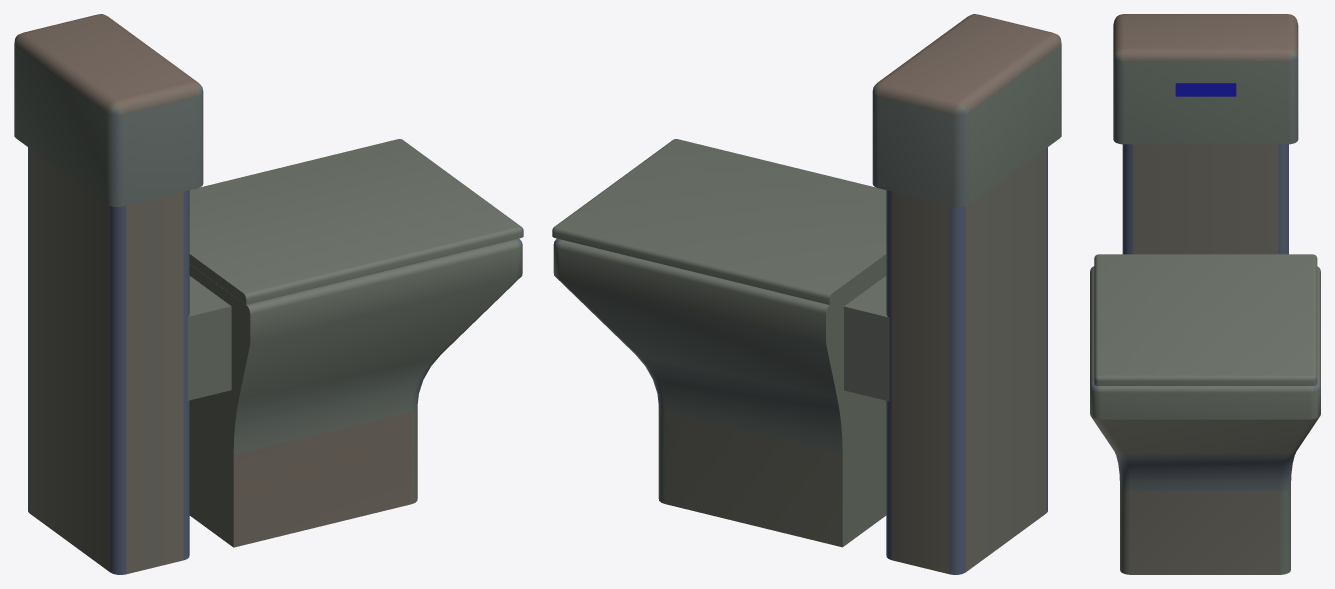
File: commode.FBX
3 renders of one model, left to right at view 1: azimuth 30°, elevation 25°; view 2: azimuth 150°, elevation 25°; view 3: azimuth 270°, elevation 25°, orthographic. The views are drawn at different scales.
Parts seen in each view (by area): view 1: commode; view 2: commode; view 3: commode.
Boxes of the visible parts, bbox=[...] form: commode: bbox=[14, 14, 523, 574]; commode: bbox=[552, 14, 1061, 574]; commode: bbox=[1090, 14, 1320, 574].
Size of the model in its own units: 68.28 by 77.2 by 37.66.
